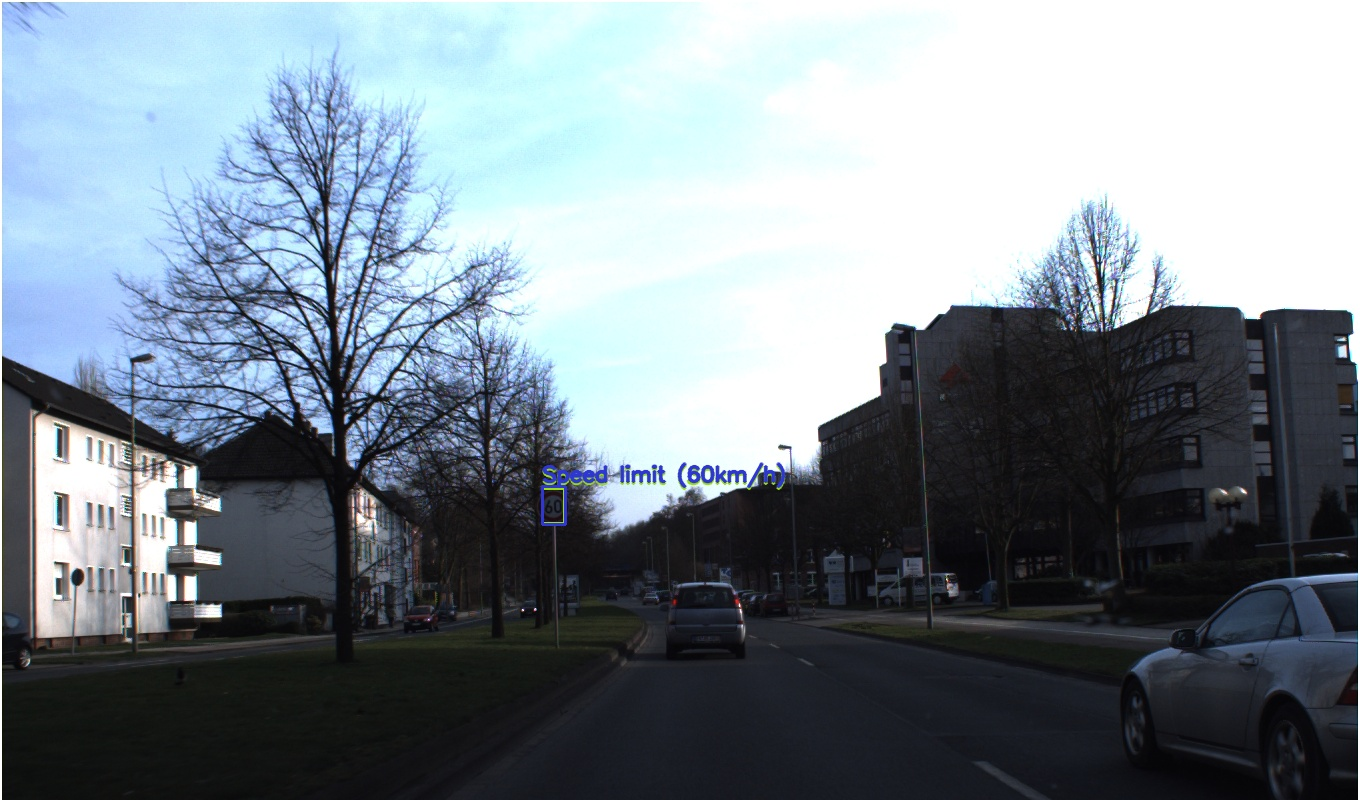No passing: (962, 379, 1008, 426)
Traffic signals: (866, 399, 905, 439)
